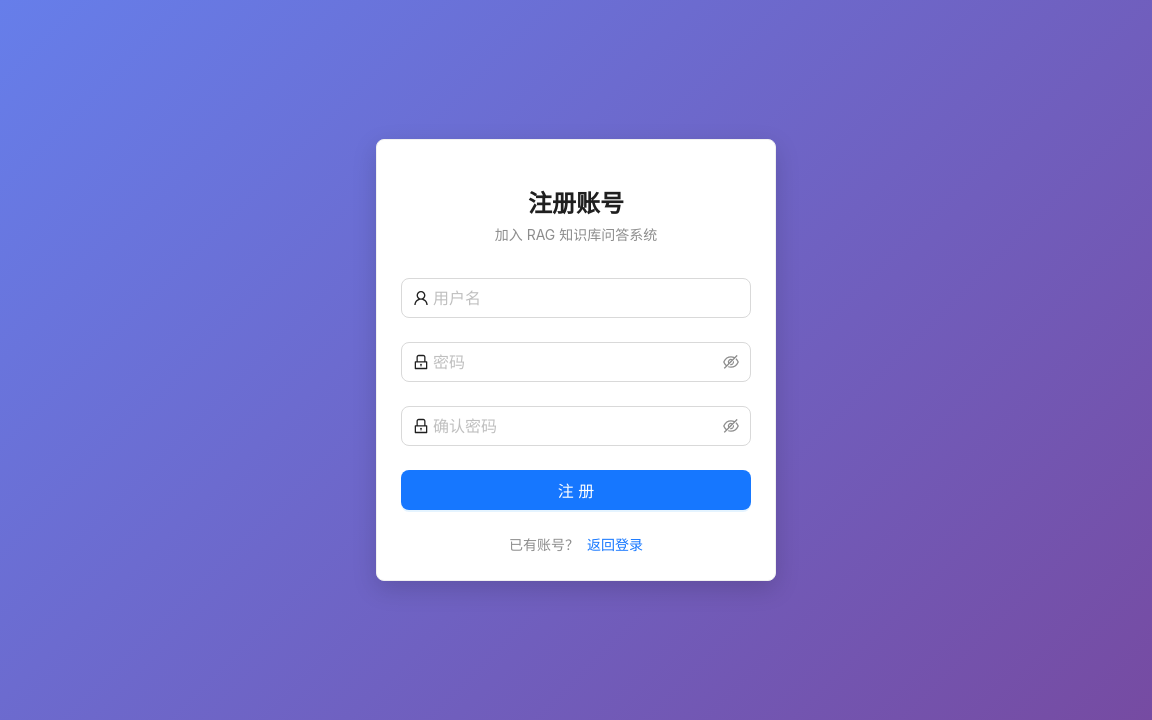
it: Register 注册页面 › 两次密码不一致应显示错误
Type "newuser" into the field with placeholder "用户名" at coordinates (586, 298), box [433, 286, 739, 310]
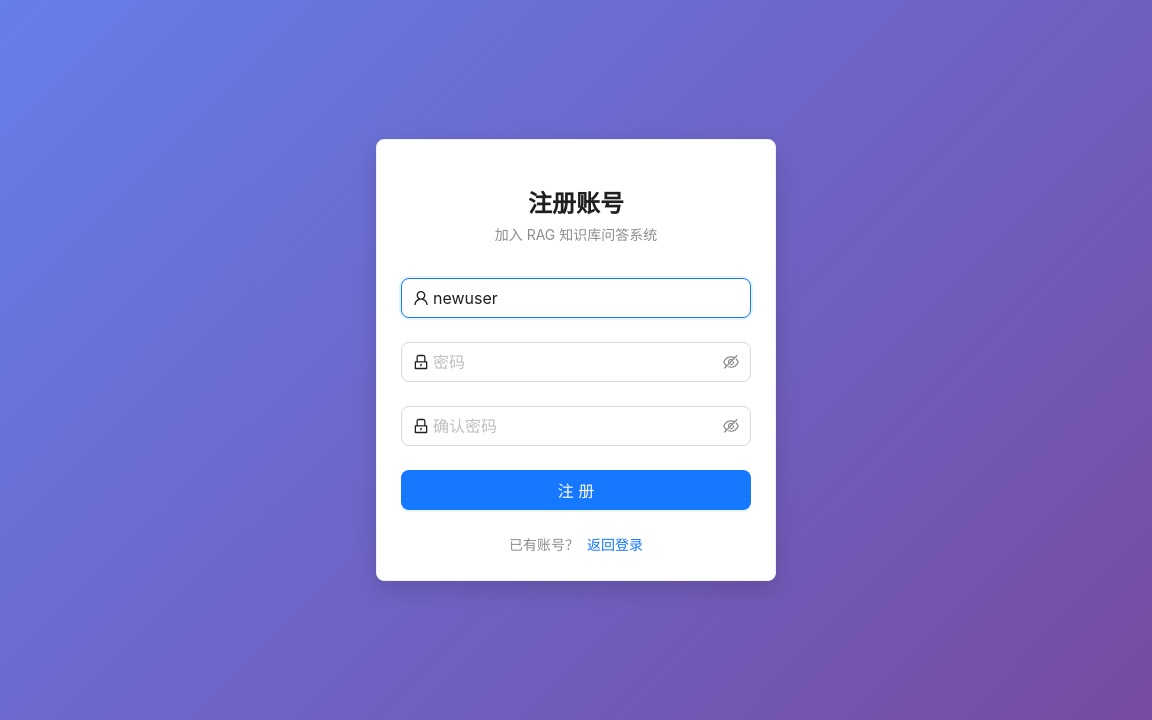
Type "pass123" into the password field with placeholder "密码" at coordinates (576, 362), box [433, 350, 719, 374]
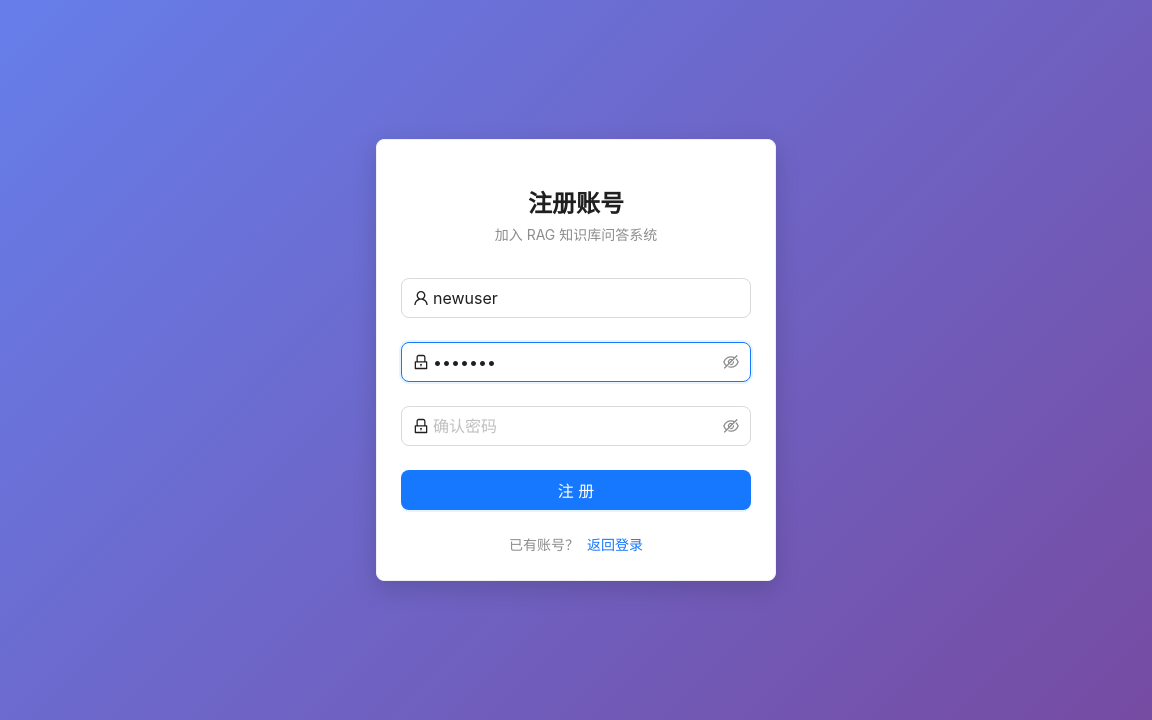
Type "different" into the password field with placeholder "确认密码" at coordinates (576, 426), box [433, 414, 719, 438]
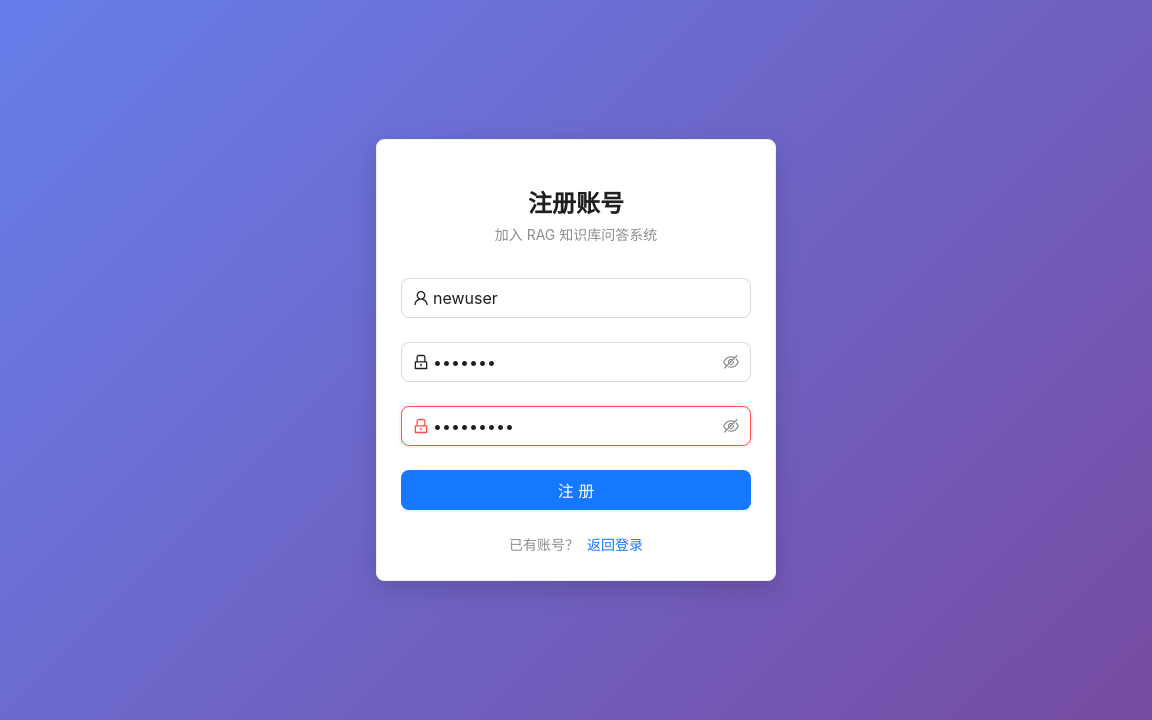
Click the button "注 册" at coordinates (576, 490), box [401, 470, 751, 510]
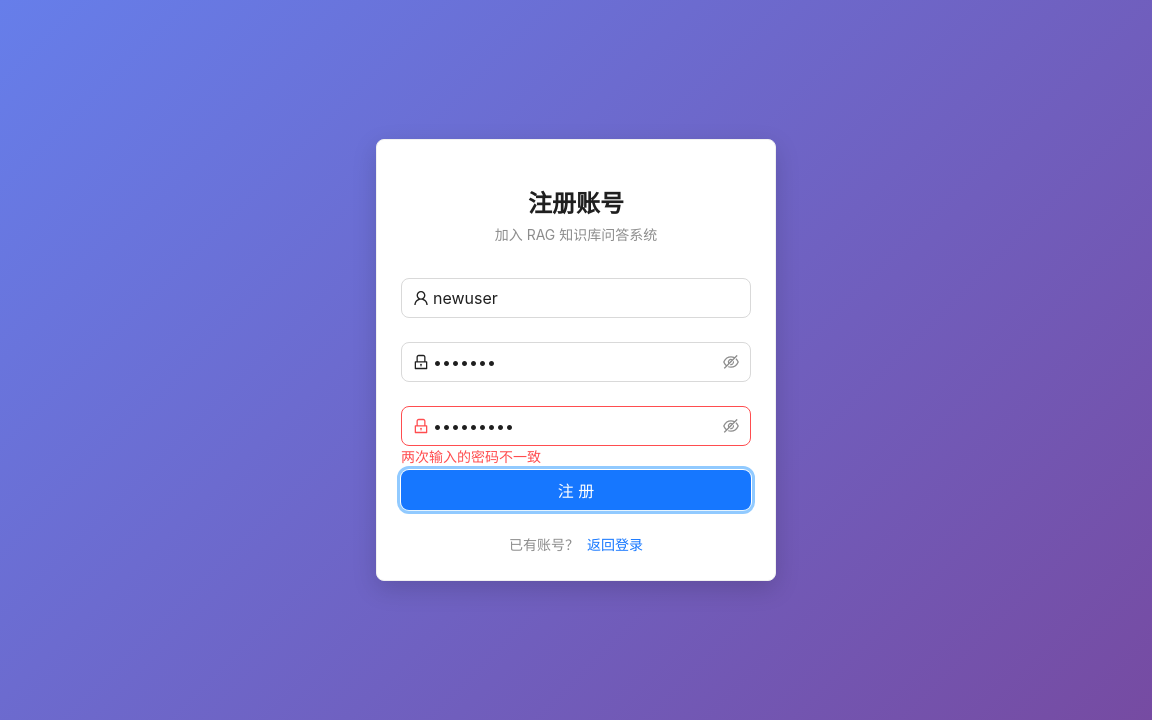
Expected: the text "两次输入的密码不一致" is shown, [401, 448, 541, 465]
